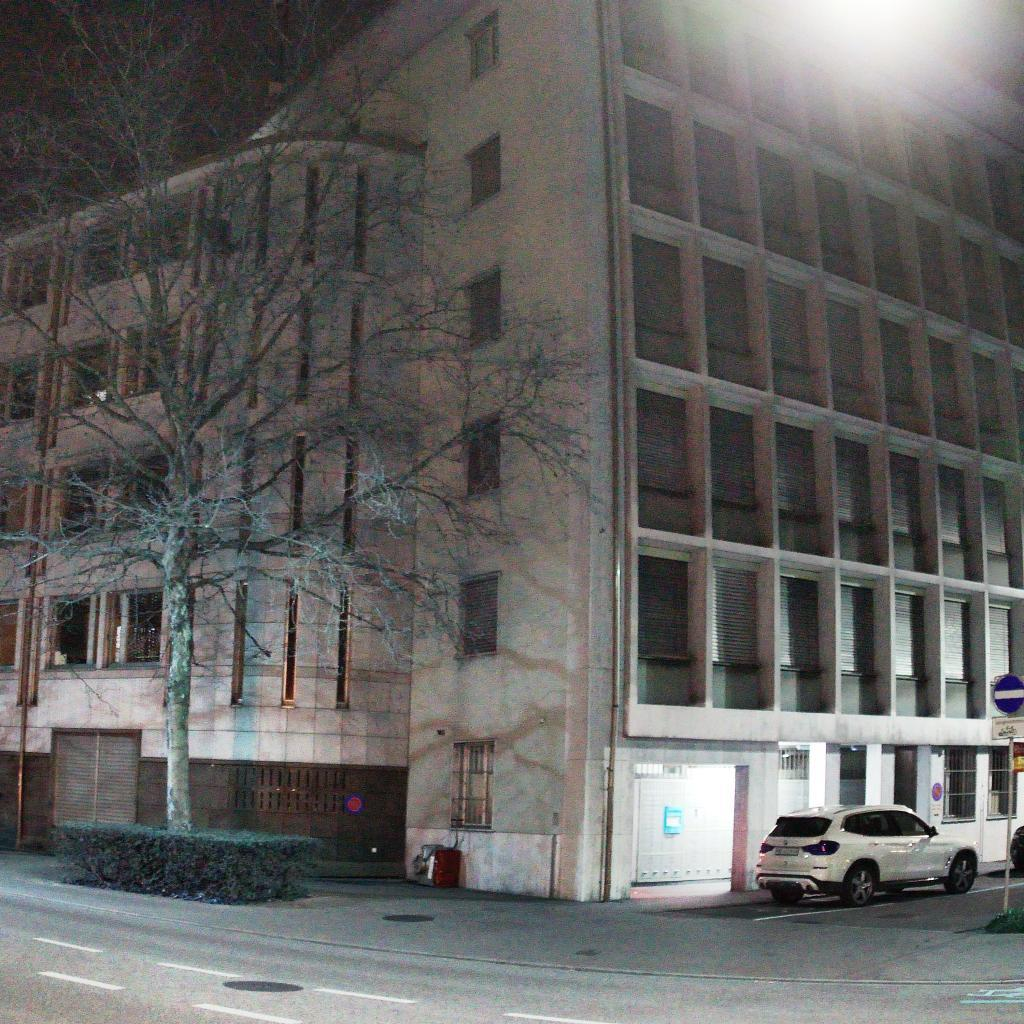car: (754, 803, 983, 910), (1011, 824, 1024, 876)
facade: (0, 0, 1024, 901), (1012, 738, 1024, 831)
shop: (605, 734, 1008, 903)
street: (0, 852, 1024, 1024)
traffic-infrastructure: (990, 673, 1024, 915)
vegetation: (0, 0, 617, 904)
window: (637, 545, 697, 707), (637, 387, 697, 535), (707, 403, 768, 548), (631, 233, 693, 373), (712, 556, 766, 710), (624, 94, 688, 222), (52, 730, 141, 821), (703, 256, 762, 391), (780, 565, 830, 713), (767, 270, 820, 406), (693, 119, 750, 243), (777, 420, 827, 558), (824, 291, 876, 421), (755, 146, 810, 266), (833, 434, 881, 565), (813, 170, 863, 286), (841, 573, 880, 716), (971, 343, 1015, 463), (685, 8, 737, 108), (880, 315, 923, 435), (895, 579, 931, 716), (890, 449, 929, 574), (448, 738, 499, 833), (929, 330, 970, 448), (943, 589, 980, 719), (129, 454, 194, 528), (867, 192, 910, 303), (938, 463, 977, 583), (746, 33, 793, 131), (980, 473, 1019, 590), (944, 747, 1006, 820), (960, 234, 1002, 339), (902, 109, 948, 204), (137, 195, 192, 273), (128, 317, 182, 396), (916, 216, 956, 322), (620, 0, 672, 81), (109, 590, 163, 665), (803, 59, 844, 157), (857, 85, 898, 181), (456, 570, 500, 658), (49, 593, 101, 666), (944, 128, 983, 223), (80, 216, 130, 290), (58, 462, 108, 535), (5, 241, 52, 312), (465, 410, 502, 500), (985, 156, 1023, 243), (73, 336, 117, 407), (466, 268, 502, 350), (0, 354, 38, 425), (999, 255, 1024, 349), (469, 137, 501, 210), (468, 13, 501, 83), (0, 478, 30, 546), (989, 598, 1013, 670), (0, 600, 19, 669)
